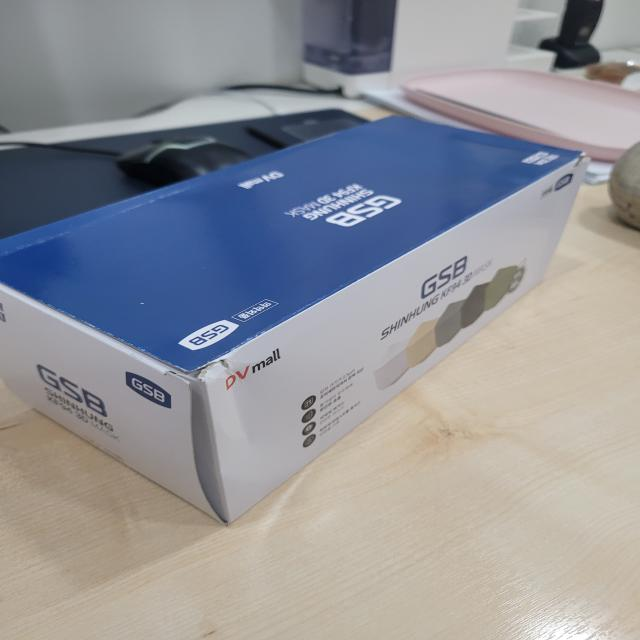mask: (0, 107, 593, 530)
